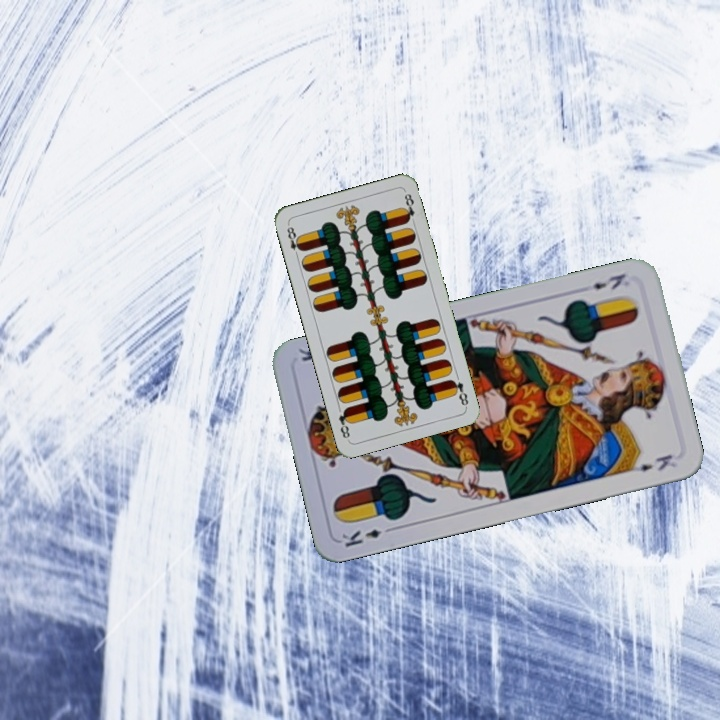E8: (283, 221, 305, 261), (446, 375, 471, 409)
EK: (337, 522, 397, 550), (588, 269, 629, 292)
